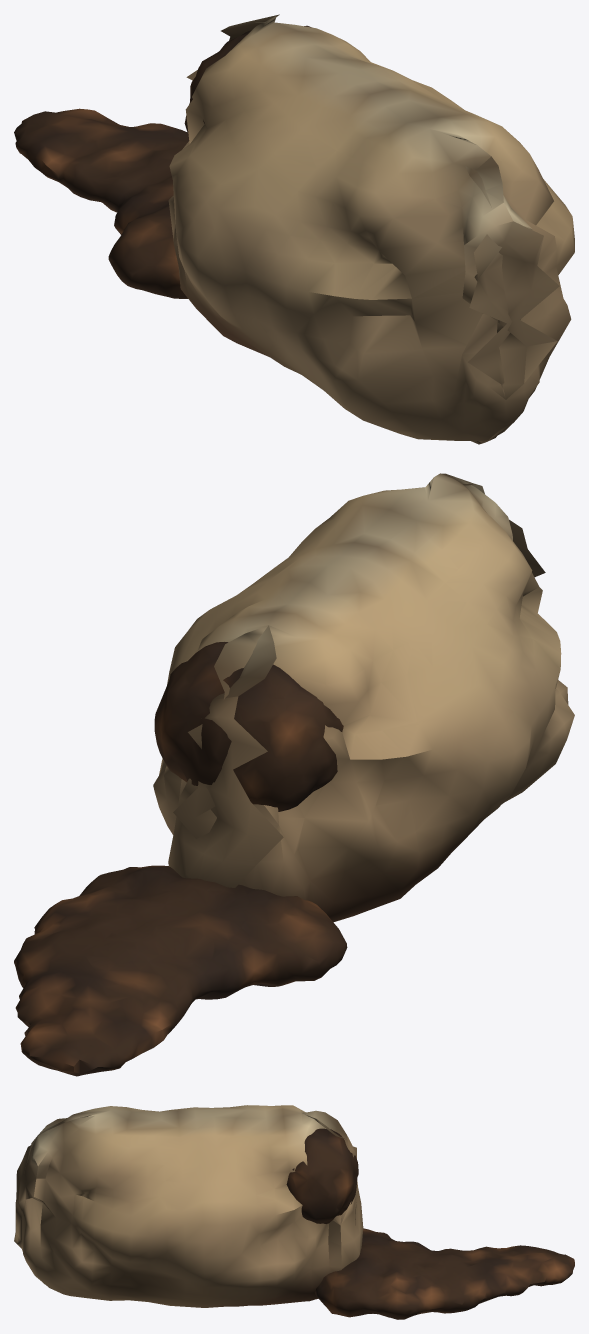
Rendered from canopy_burlap_sack_open.glb.
The picture shows the model from 3 angles, top to bottom: view 1: azimuth 30°, elevation 25°; view 2: azimuth 150°, elevation 25°; view 3: azimuth 270°, elevation 25°; orthographic projection. The views are drawn at different scales.
Parts seen in each view (by area): view 1: canopy_burlap_sack_open; view 2: canopy_burlap_sack_open; view 3: canopy_burlap_sack_open.
Boxes of the visible parts, x1,y1,x2,y2 form: canopy_burlap_sack_open: (14, 14, 574, 444); canopy_burlap_sack_open: (14, 473, 574, 1076); canopy_burlap_sack_open: (14, 1105, 574, 1319).
Size of the model in its own units: 6.98 by 6.1 by 16.43.
